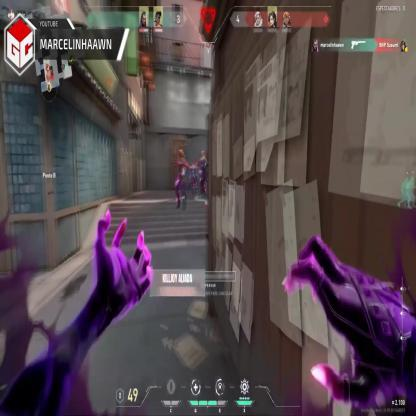enemy: (174, 147, 188, 208), (198, 150, 208, 202), (190, 160, 198, 195)
enemy_head: (178, 149, 183, 159), (200, 150, 204, 158), (192, 160, 196, 166)
